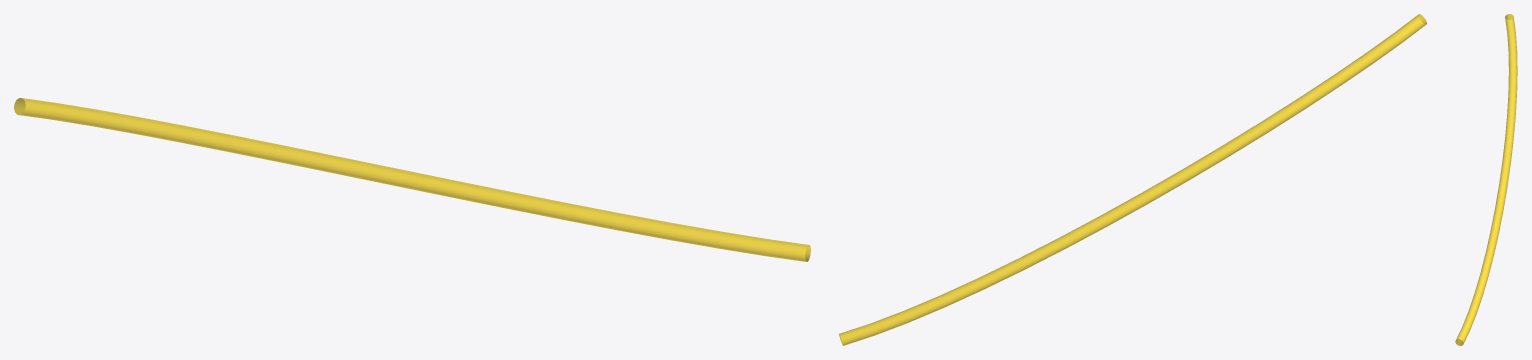
The model's file is Event_17758602_track_130.fbx.
3 renders of one model, left to right at view 1: azimuth 30°, elevation 25°; view 2: azimuth 210°, elevation 25°; view 3: azimuth 270°, elevation 25°, orthographic. The views are drawn at different scales.
Parts seen in each view (by area): view 1: Model; view 2: Model; view 3: Model.
Boxes of the visible parts, box(x1,y1,x2,y2) form: Model: box(14, 98, 810, 261); Model: box(839, 14, 1426, 345); Model: box(1455, 14, 1517, 345).
Bounding box in the file's own units: 1.97 × 0.7727 × 0.285.
